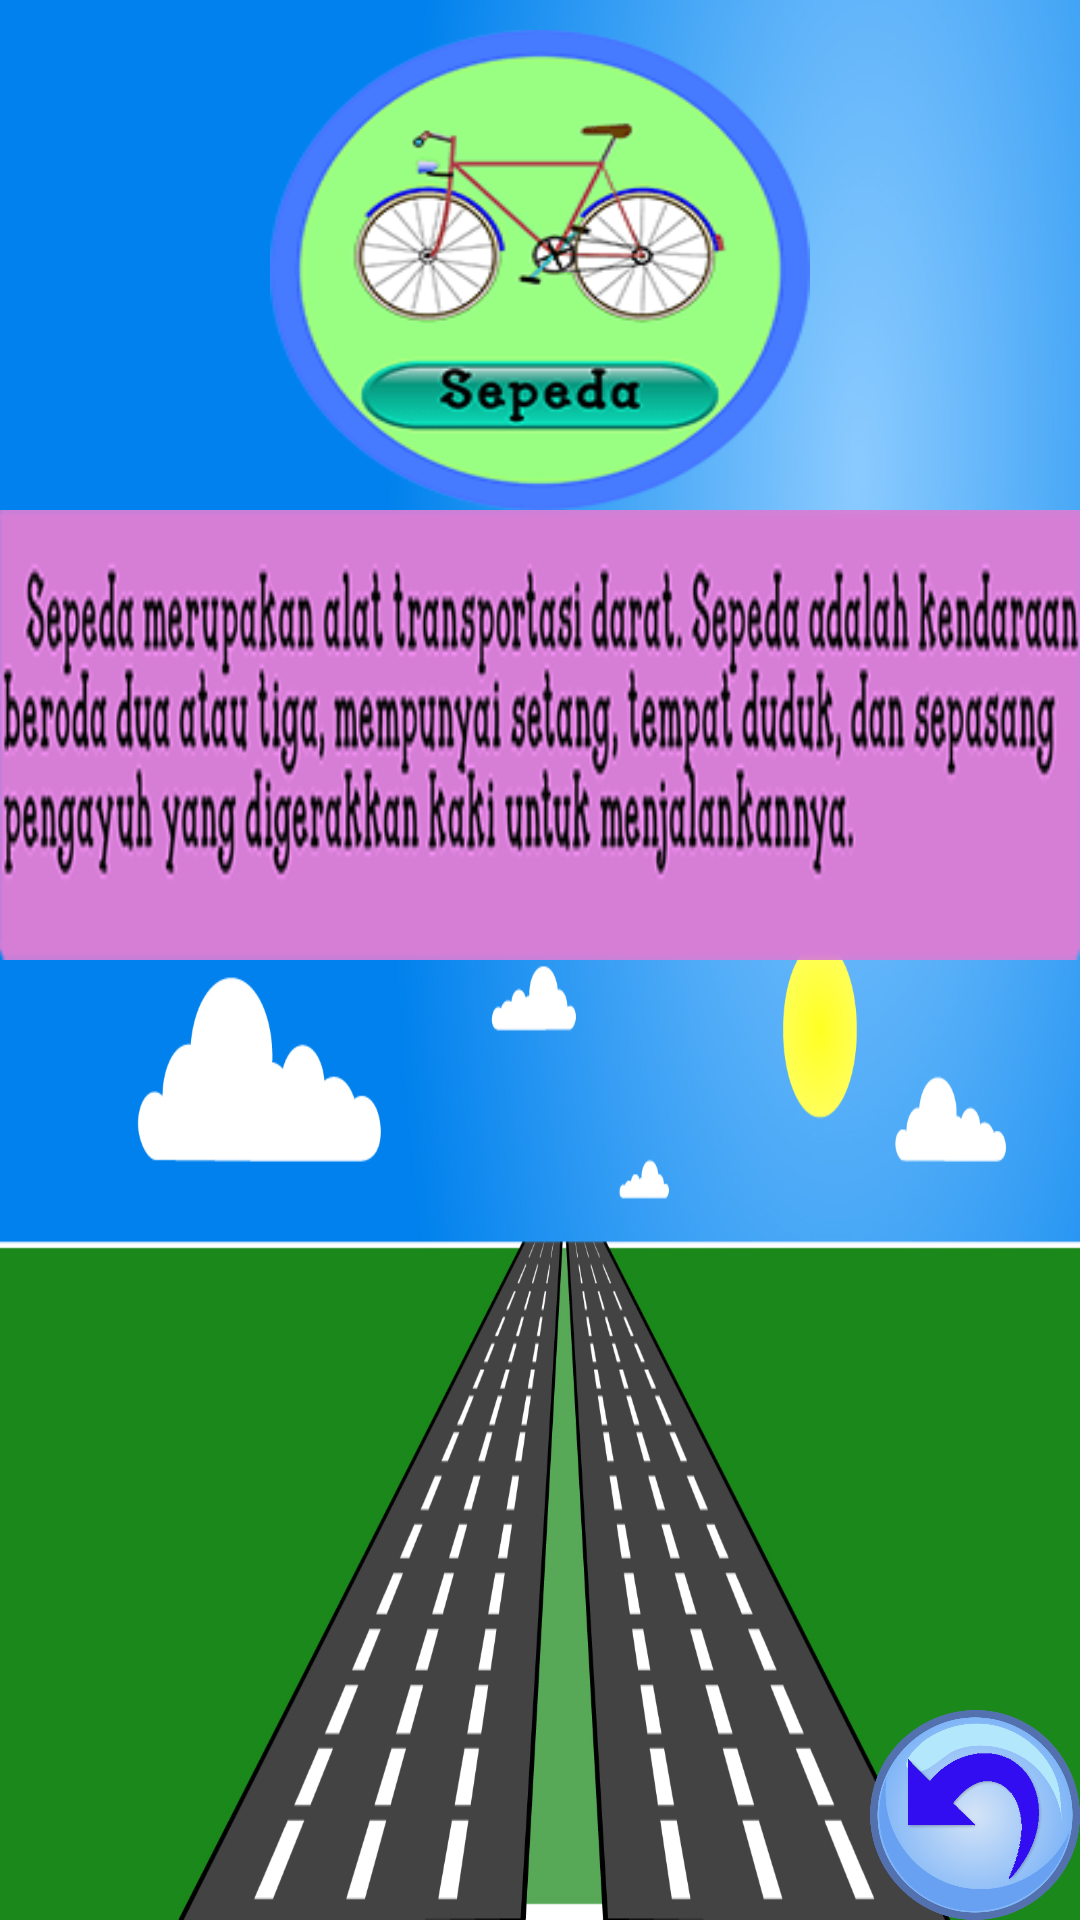

Icons on this 1080w x 1920h Android screen, each with the point to tap as point (x, y):
back: point (975, 1815)
